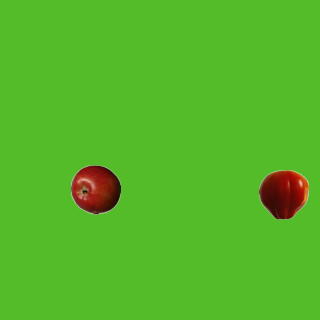Apple Braeburn: (70, 164, 120, 214)
Tomato 1: (258, 169, 308, 219)
